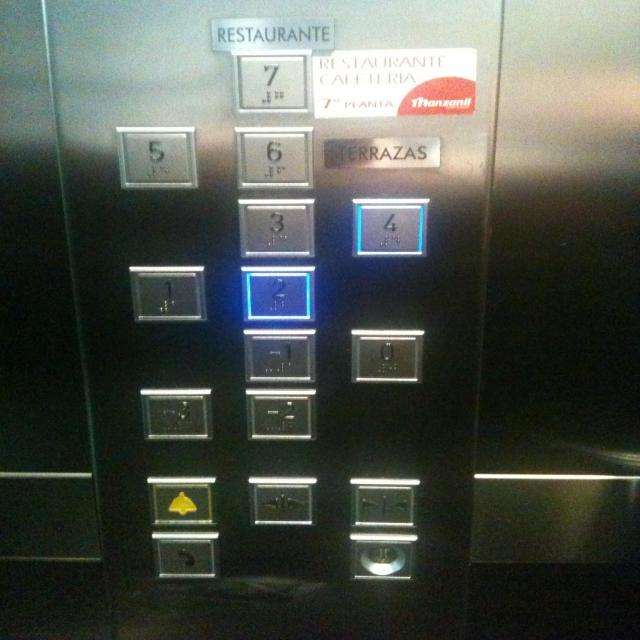-1: (240, 326, 318, 388)
-2: (242, 386, 316, 444)
-3: (136, 384, 212, 441)
0: (348, 327, 426, 389)
1: (126, 262, 207, 328)
2: (240, 263, 316, 327)
3: (234, 194, 314, 262)
4: (348, 194, 428, 262)
5: (114, 124, 200, 195)
6: (232, 125, 318, 196)
7: (227, 47, 313, 117)
alarm: (146, 475, 216, 530)
bt_keyhole: (349, 534, 418, 582)
call: (151, 532, 220, 580)
close: (346, 476, 422, 534)
open: (246, 475, 316, 531)
